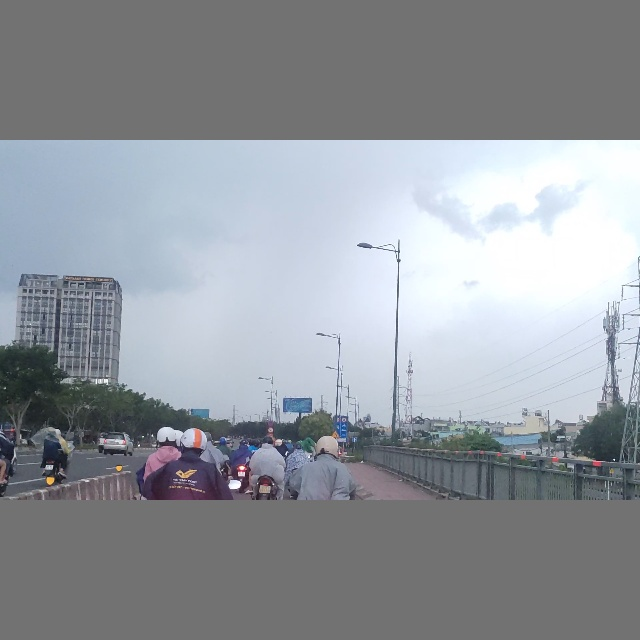P.127*50: (341, 417, 346, 423)
W.201a: (331, 430, 340, 438)
